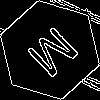M: (25, 25, 88, 87)
